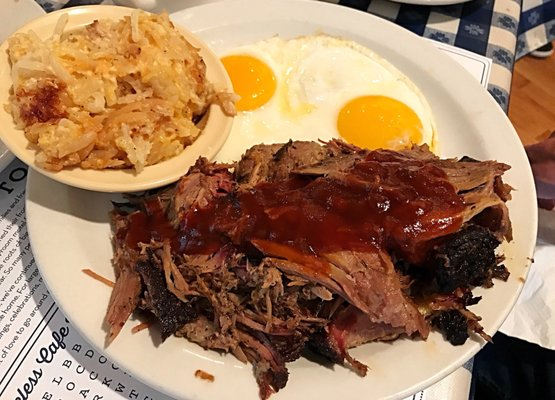sushi: (0, 6, 240, 194)
taco: (220, 54, 278, 112)
